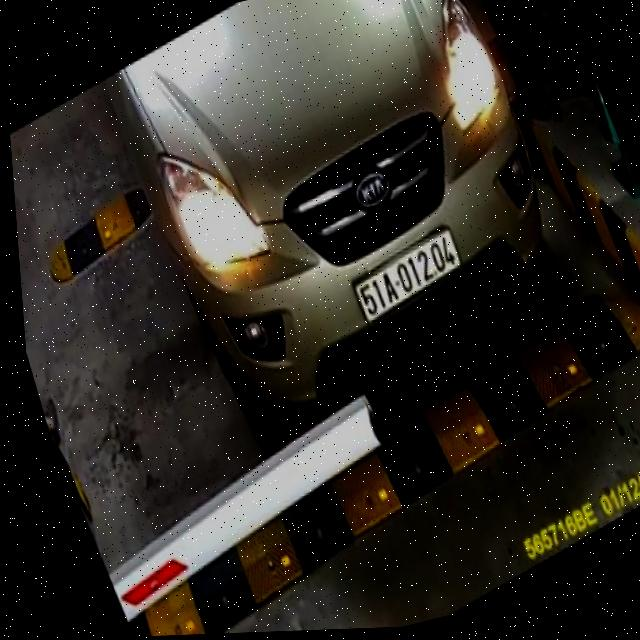car: (92, 0, 602, 452)
plate: (336, 220, 482, 328)
